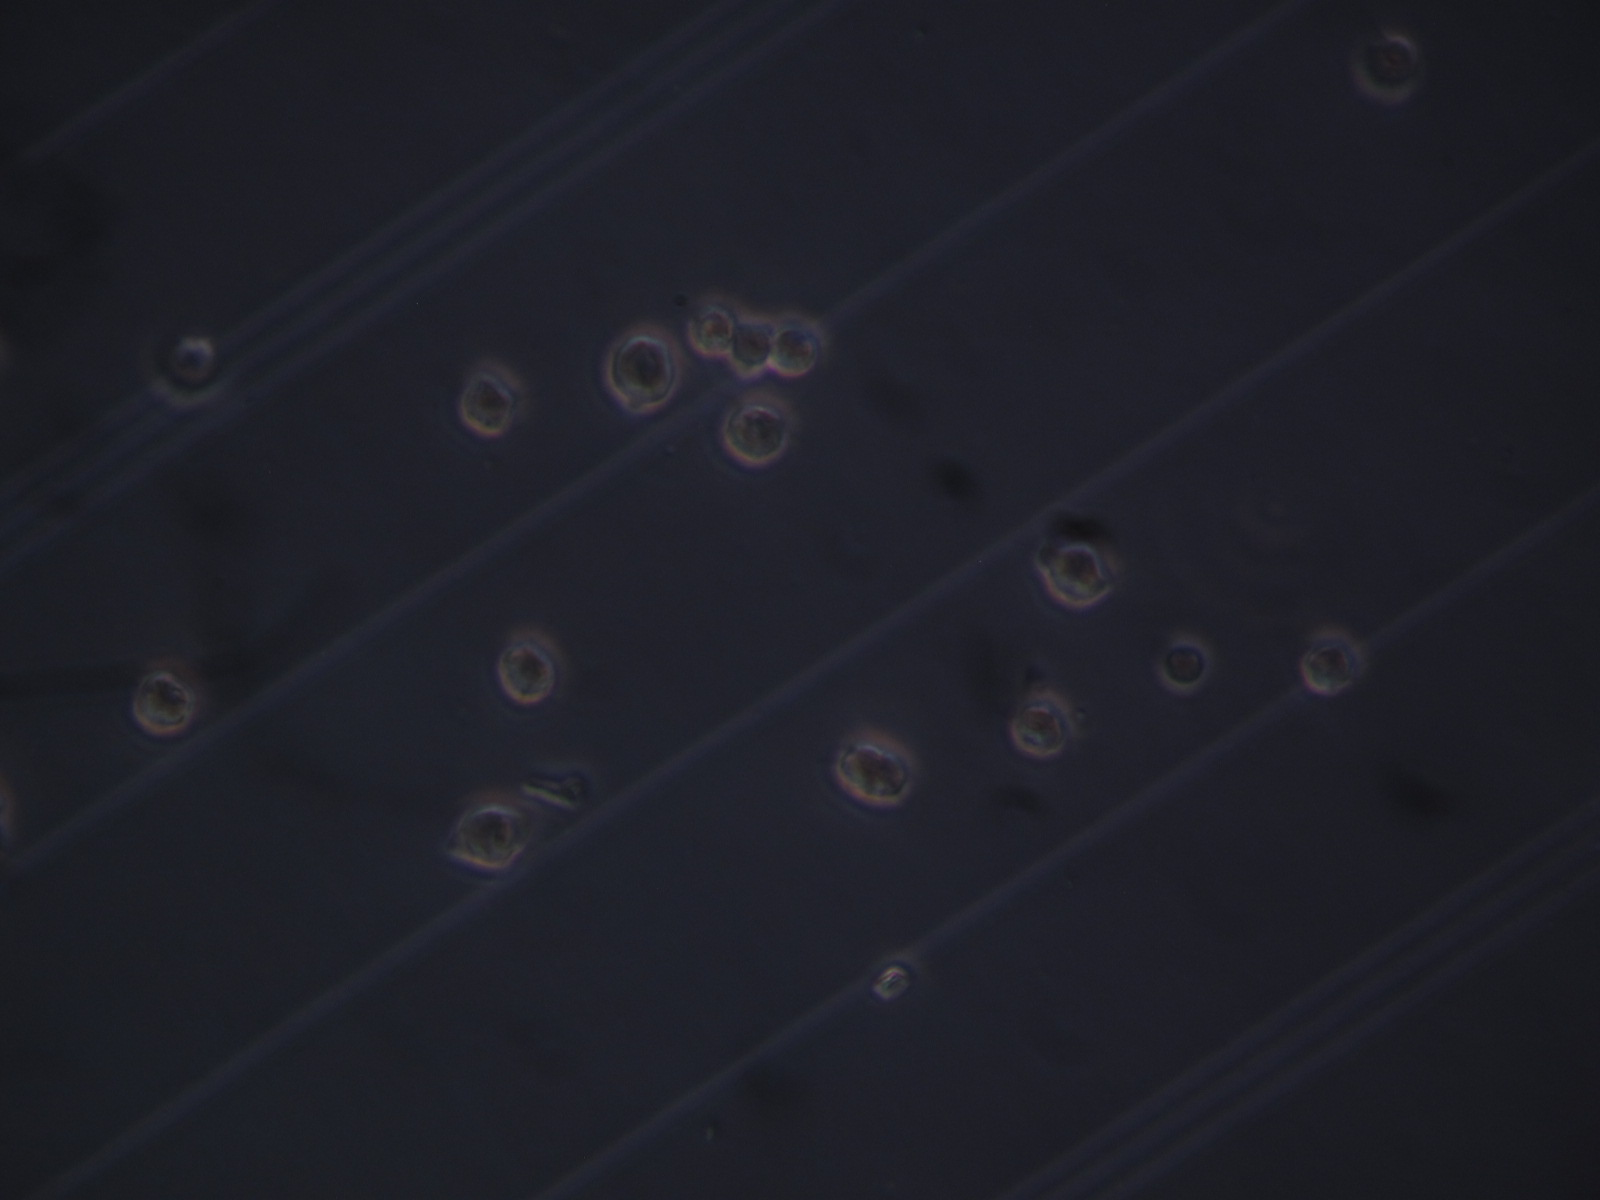hemo: (147, 330, 238, 408), (835, 729, 918, 809), (496, 626, 569, 708), (606, 330, 682, 408), (459, 359, 527, 440), (721, 391, 791, 466), (1043, 541, 1117, 609), (1352, 30, 1420, 101), (454, 803, 525, 870), (1298, 626, 1367, 695), (1008, 688, 1073, 759), (129, 669, 197, 735), (770, 313, 828, 381), (1155, 633, 1214, 695), (687, 292, 736, 359), (731, 309, 777, 376)
